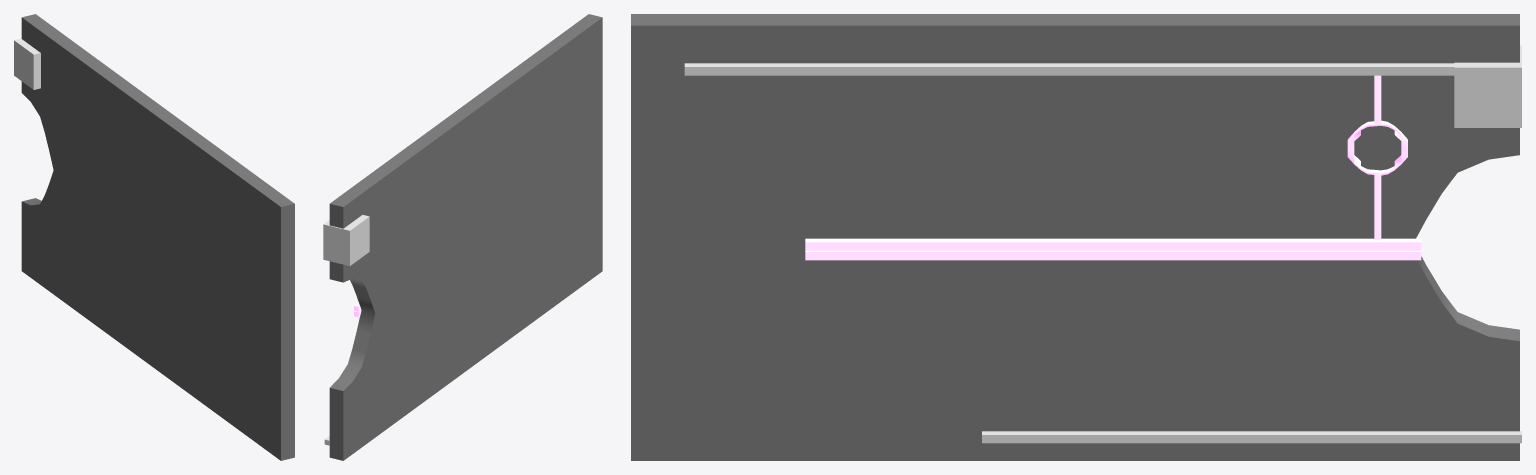
The model's file is leftDoorCompress.gltf.
3 renders of one model, left to right at view 1: azimuth 30°, elevation 25°; view 2: azimuth 150°, elevation 25°; view 3: azimuth 270°, elevation 25°, orthographic. The views are drawn at different scales.
Visible parts, largest first — view 1: pasted__pasted__pasted__pasted__pasted__pCube64; view 2: pasted__pasted__pasted__pasted__pasted__pCube64; view 3: pasted__pasted__pasted__pasted__pasted__pCube64.
Part boxes in pixels (x1=…): pasted__pasted__pasted__pasted__pasted__pCube64: x1=14, y1=14, x2=294, y2=460; pasted__pasted__pasted__pasted__pasted__pCube64: x1=323, y1=14, x2=602, y2=460; pasted__pasted__pasted__pasted__pasted__pCube64: x1=631, y1=14, x2=1521, y2=460.
Size of the model in its own units: 0.014 by 0.1272 by 0.2359.
